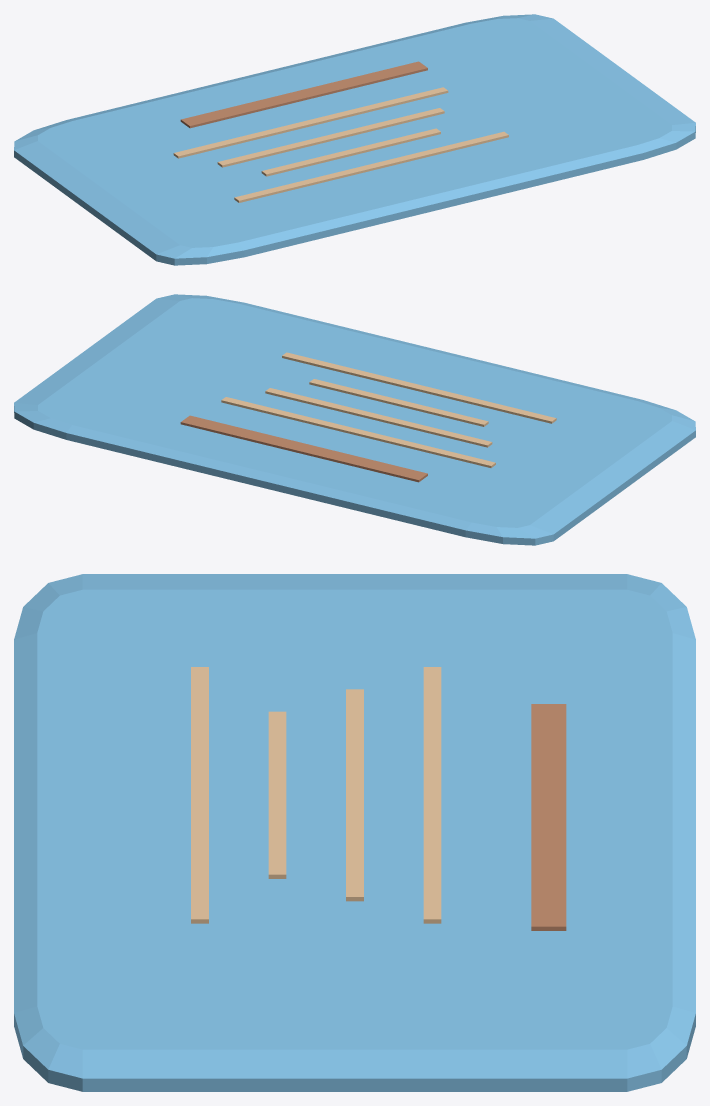
Rendered from otp_card_blank.glb.
3 views of the same model, one above another, from view 1: azimuth 30°, elevation 25°; view 2: azimuth 150°, elevation 25°; view 3: azimuth 270°, elevation 25° (orthographic). The views are drawn at different scales.
Parts seen in each view (by area): view 1: model; view 2: model; view 3: model.
Part boxes in pixels (box(x1,y1,x2,y2)): model: box(14, 14, 695, 265); model: box(14, 294, 695, 545); model: box(14, 574, 695, 1091).
Bounding box in the file's own units: 0.35 × 0.01 × 0.2.
